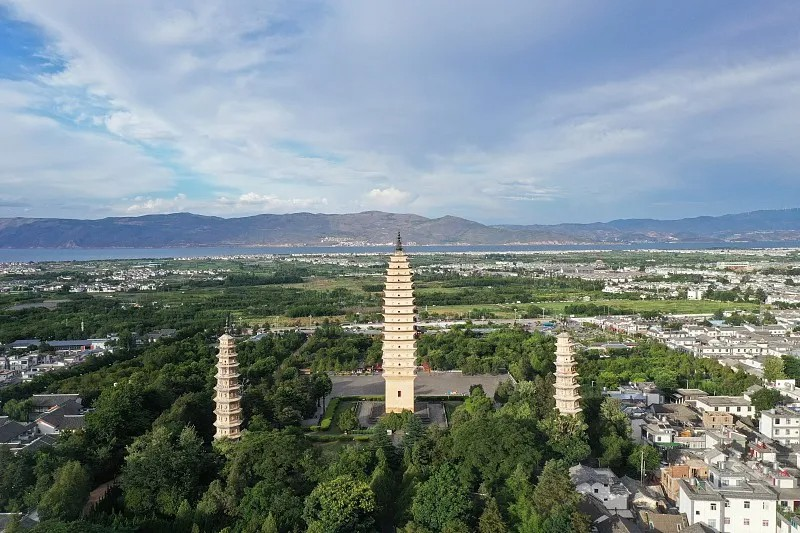ThreePagoda: (382, 230, 418, 413)
